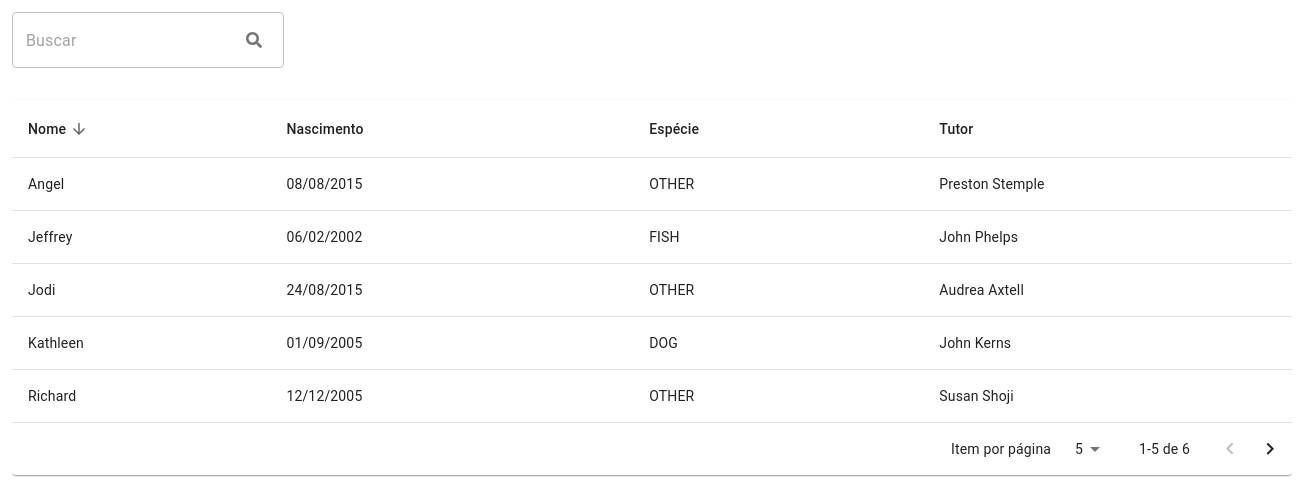
TableLazy › Search › should filter table when input text to search field
In the search field with placeholder "Buscar": (129, 40) [12,12,246,68], type "OTHER"
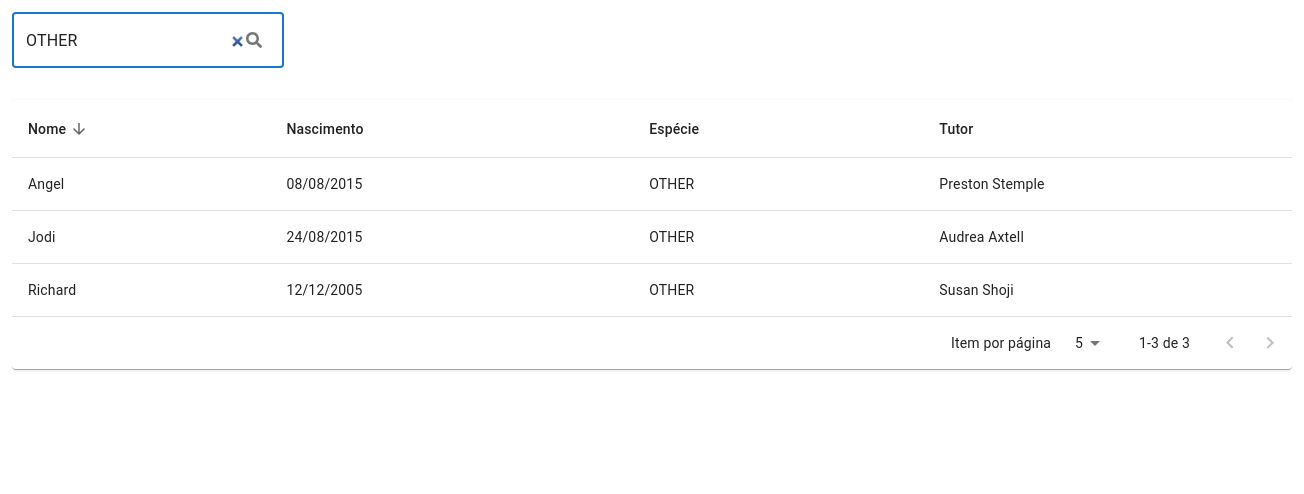
Now the text "1-3 de 3" is shown, box [1139,333,1190,353]
